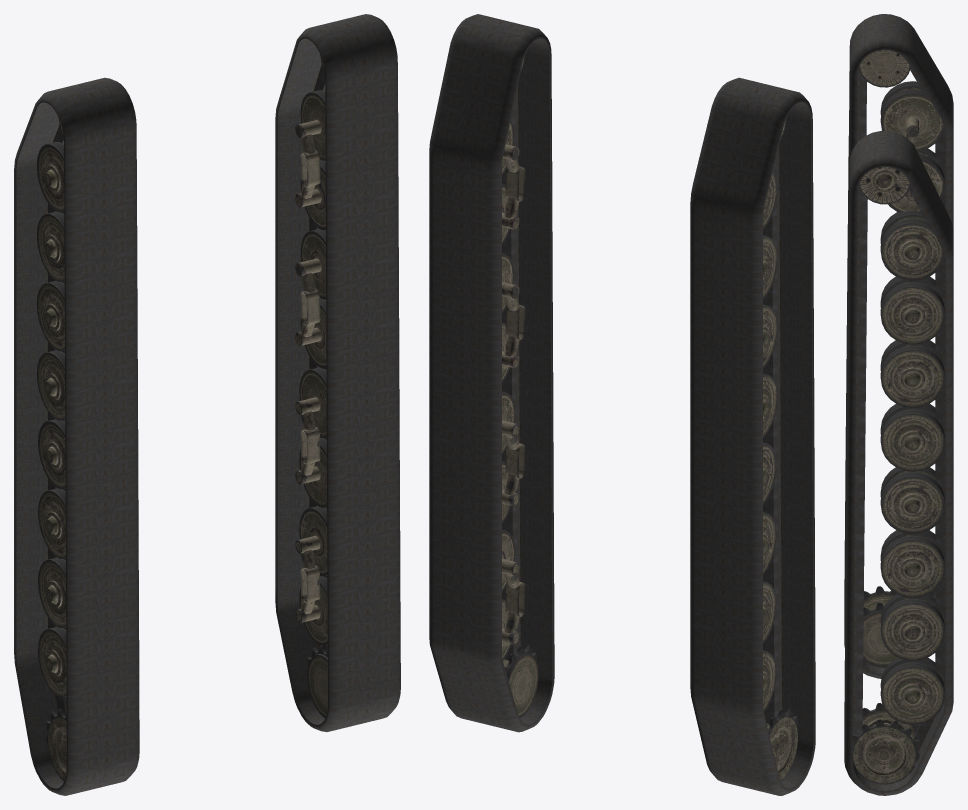
File: Chassis.glb
The picture shows the model from 3 angles, left to right: view 1: azimuth 30°, elevation 25°; view 2: azimuth 150°, elevation 25°; view 3: azimuth 270°, elevation 25°; orthographic projection. The views are drawn at different scales.
Visible parts, largest first — view 1: set_0_group_0, set_1_group_0, set_3_group_0, set_2_group_0; view 2: set_0_group_0, set_1_group_0, set_3_group_0, set_2_group_0; view 3: set_3_group_0, set_1_group_0, set_0_group_0, set_2_group_0.
Part boxes in pixels (bbox=[...]): set_0_group_0: bbox=[14, 77, 139, 795]; set_1_group_0: bbox=[275, 14, 400, 731]; set_3_group_0: bbox=[295, 55, 327, 717]; set_2_group_0: bbox=[36, 118, 66, 781]; set_0_group_0: bbox=[690, 77, 815, 795]; set_1_group_0: bbox=[429, 14, 554, 732]; set_3_group_0: bbox=[502, 56, 538, 717]; set_2_group_0: bbox=[763, 118, 798, 781]; set_3_group_0: bbox=[852, 167, 944, 784]; set_1_group_0: bbox=[844, 130, 953, 795]; set_0_group_0: bbox=[844, 14, 953, 678]; set_2_group_0: bbox=[859, 50, 944, 667].
Size of the model in its own units: 3.66 by 7.36 by 1.14.
Materials: 4 (4 with a texture image).
